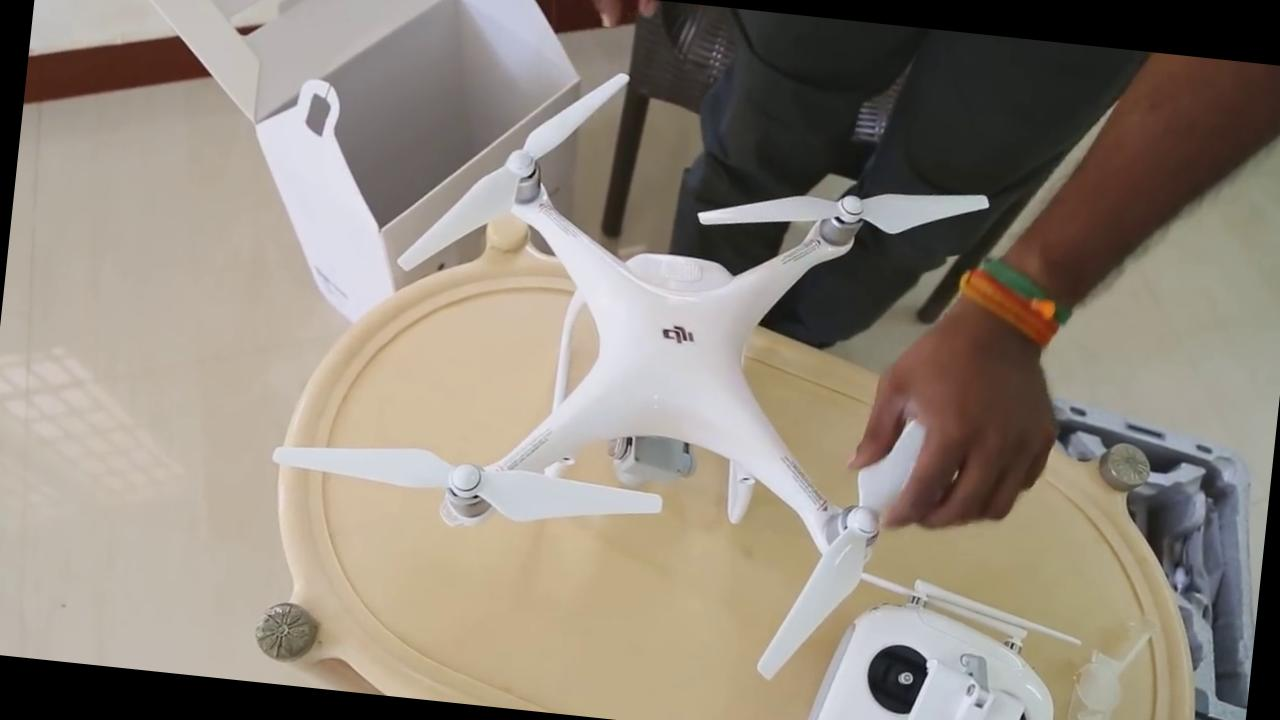drone: (234, 40, 1030, 704)
